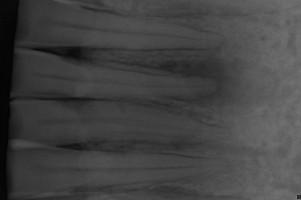Furcation Involvement: (158, 60, 238, 106)
